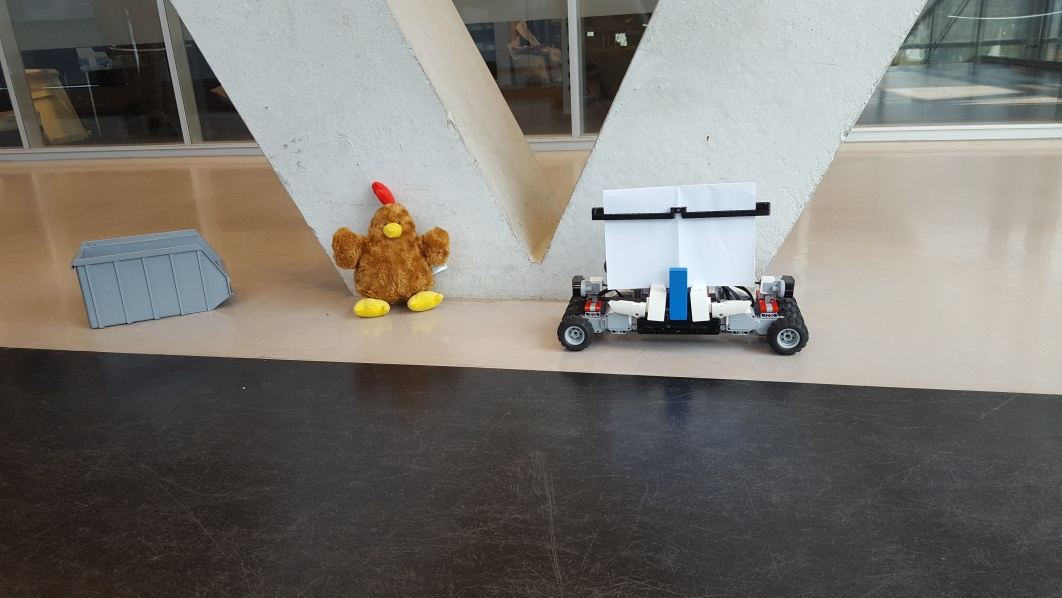beam: (667, 264, 686, 323)
chicken: (330, 181, 452, 316)
tray: (73, 228, 233, 328)
